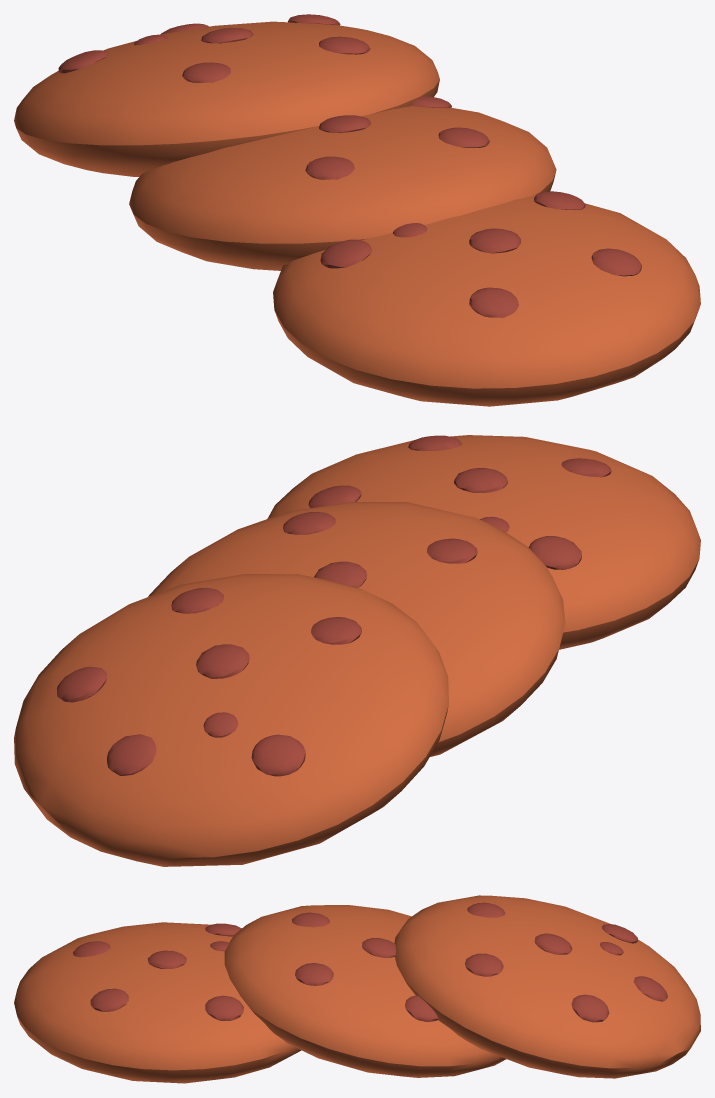
File: ciastka.gltf
The picture shows the model from 3 angles, top to bottom: view 1: azimuth 30°, elevation 25°; view 2: azimuth 150°, elevation 25°; view 3: azimuth 270°, elevation 25°; orthographic projection. The views are drawn at different scales.
Visible parts, largest first — view 1: Sphere.007, Sphere.008, Sphere.009; view 2: Sphere.009, Sphere.008, Sphere.007; view 3: Sphere.009, Sphere.007, Sphere.008.
Boxes of the visible parts, x1=… form: Sphere.007: x1=273, y1=191, x2=700, y2=406; Sphere.008: x1=129, y1=96, x2=556, y2=270; Sphere.009: x1=14, y1=14, x2=439, y2=176; Sphere.009: x1=14, y1=574, x2=448, y2=866; Sphere.008: x1=148, y1=502, x2=565, y2=756; Sphere.007: x1=267, y1=435, x2=700, y2=649; Sphere.009: x1=394, y1=895, x2=700, y2=1078; Sphere.007: x1=14, y1=922, x2=301, y2=1083; Sphere.008: x1=224, y1=905, x2=506, y2=1077.
Size of the model in its own units: 0.1834 by 0.0713 by 0.3851.
1 material, 1 textured.
